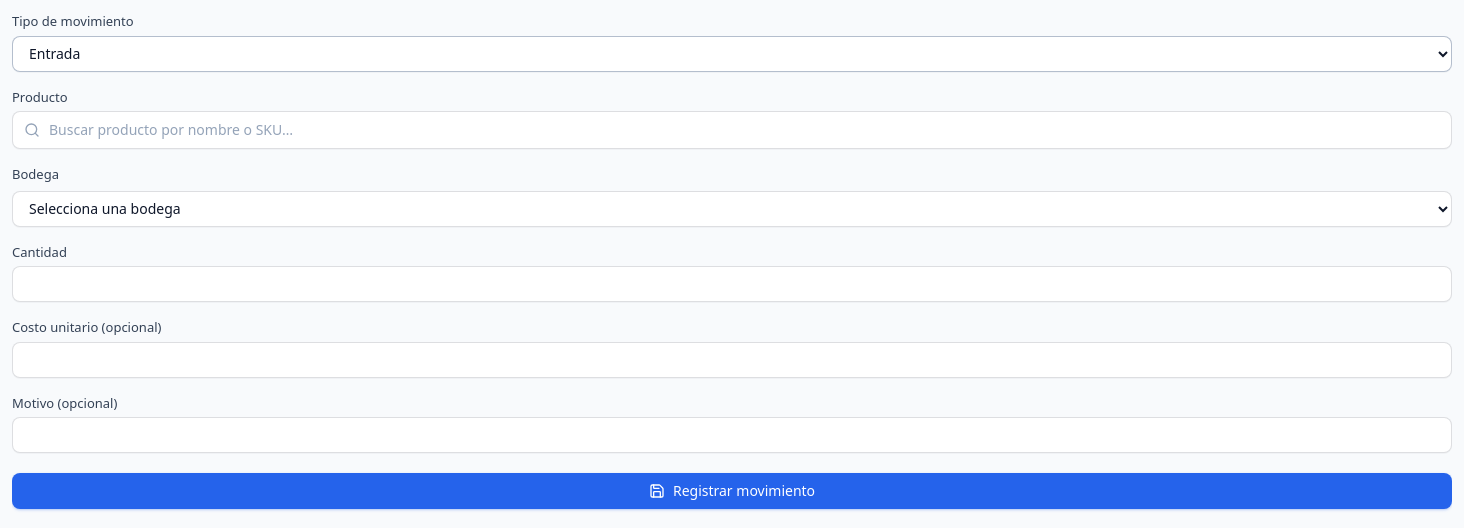
Test: MovementForm › rejects a zero quantity and a missing reason for AJUSTE
The image size is (1464, 528).
Select "Ajuste" in the dropdown labelled "Tipo de movimiento" at [732, 54], box [12,36,1452,72]
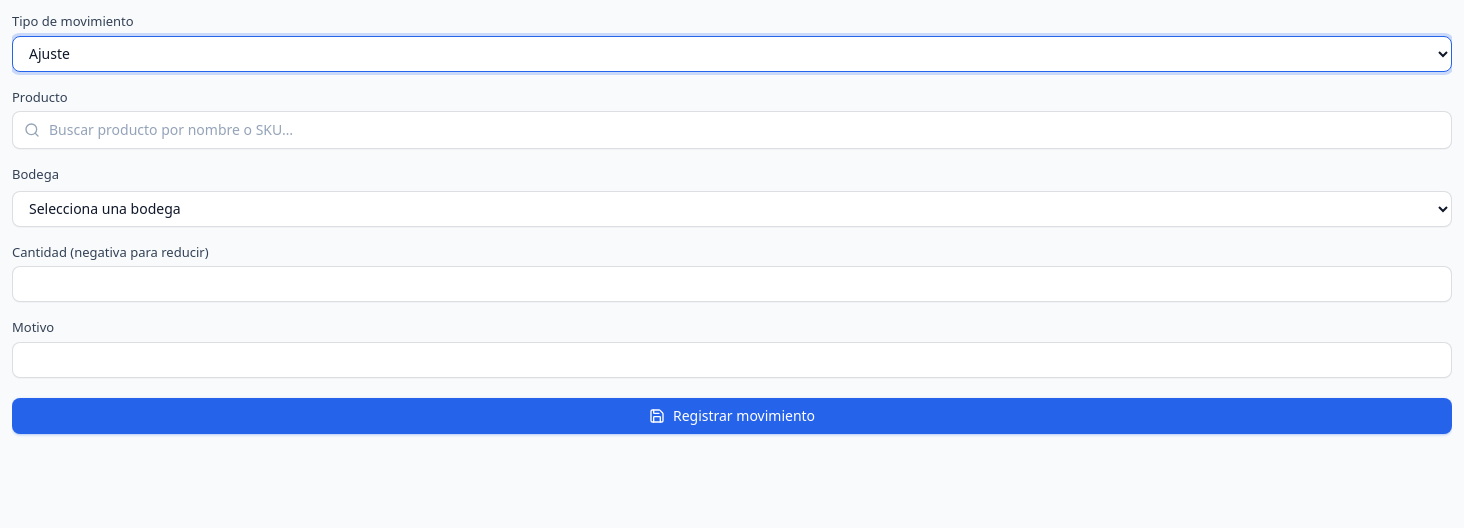
Type "tornillo" into the field with placeholder "Buscar producto por nombre o SKU…" at [732, 130], box [12,111,1452,149]
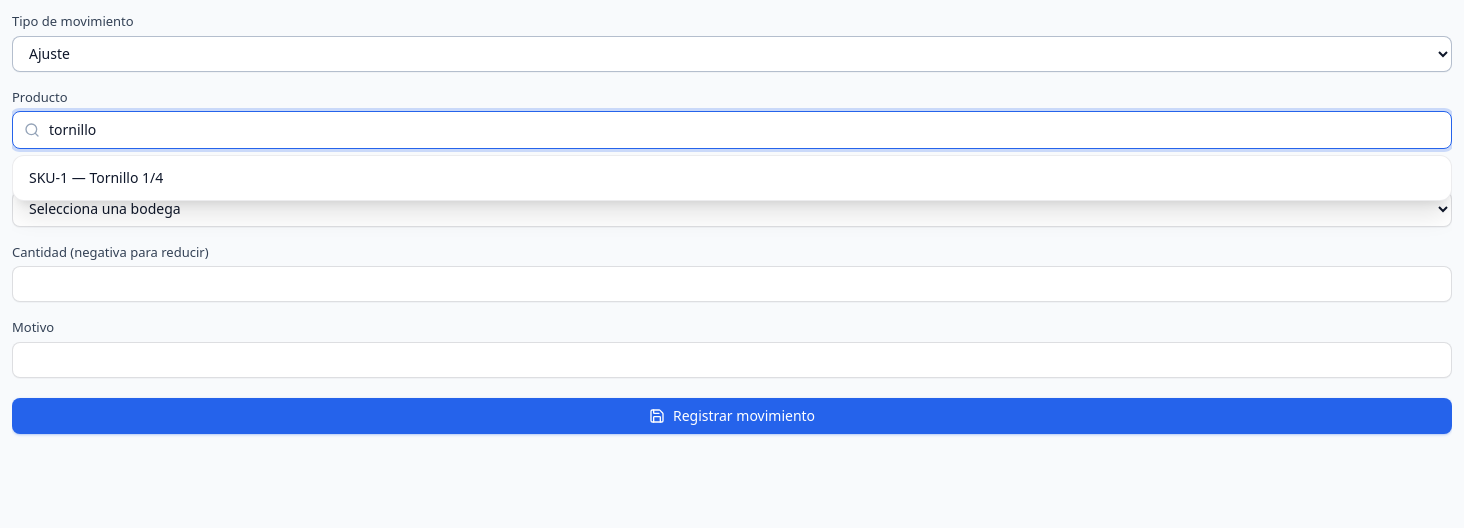
Click the button "SKU-1 — Tornillo 1/4" at [49, 178], box [17,160,1447,196]
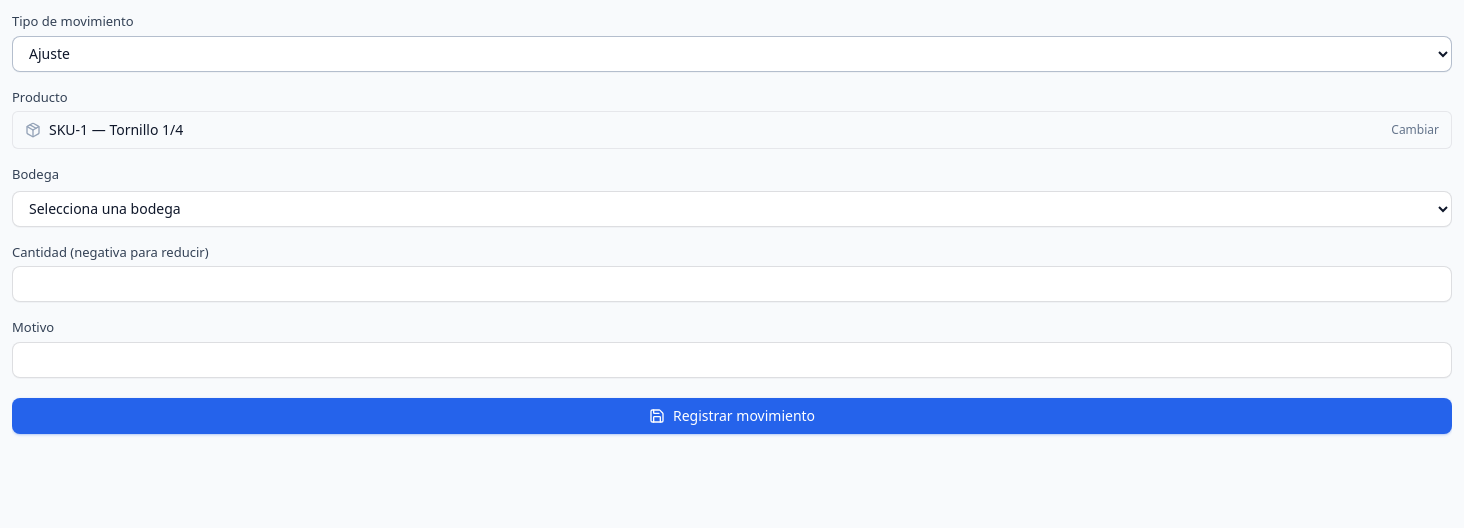
Select "Bodega principal" in the dropdown labelled "Bodega" at [732, 208], box [12,190,1452,226]
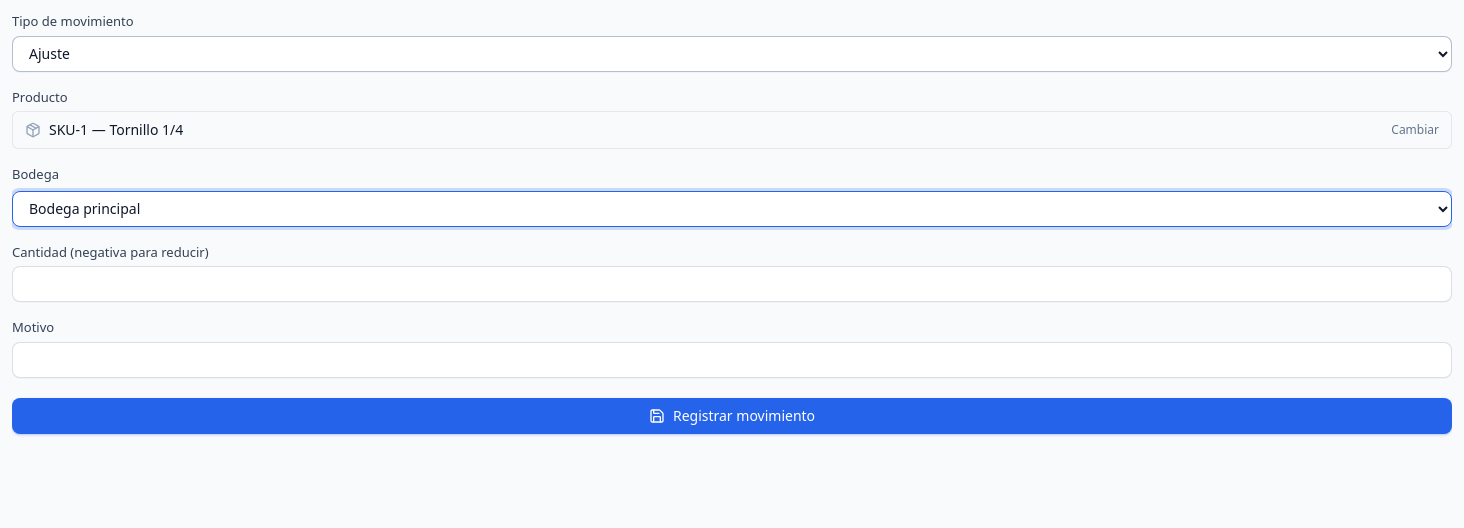
Type "0" into the number field labelled "Cantidad (negativa para reducir)" at [732, 284], box [12,266,1452,302]
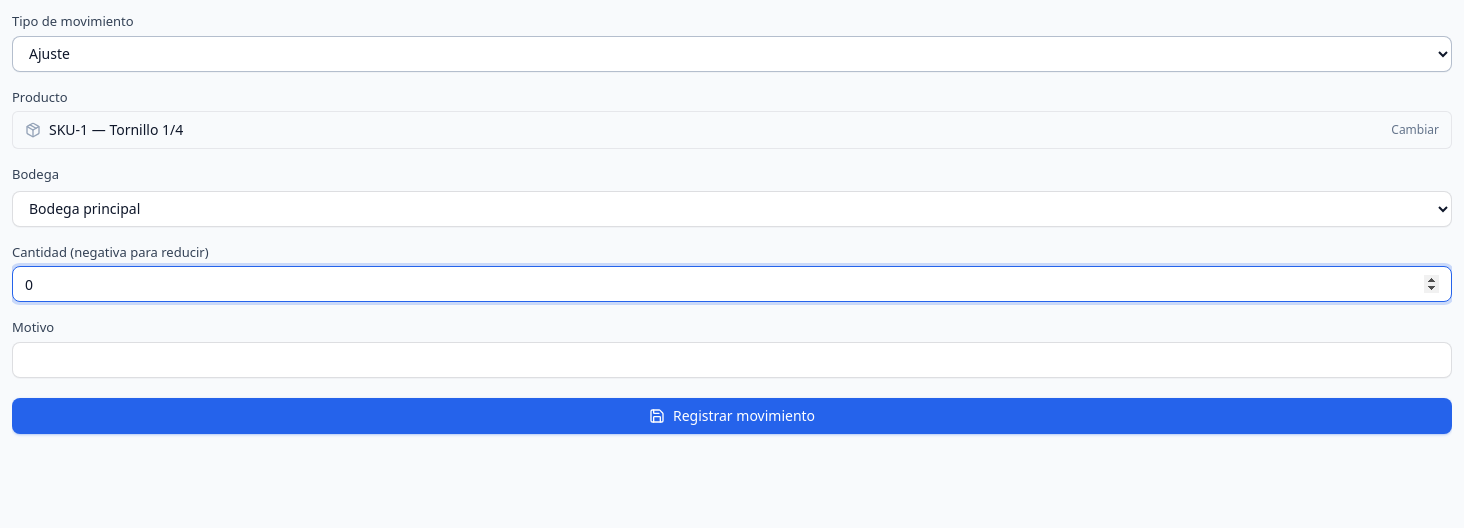
Click the button "Registrar movimiento" at [732, 416], box [12,398,1452,434]
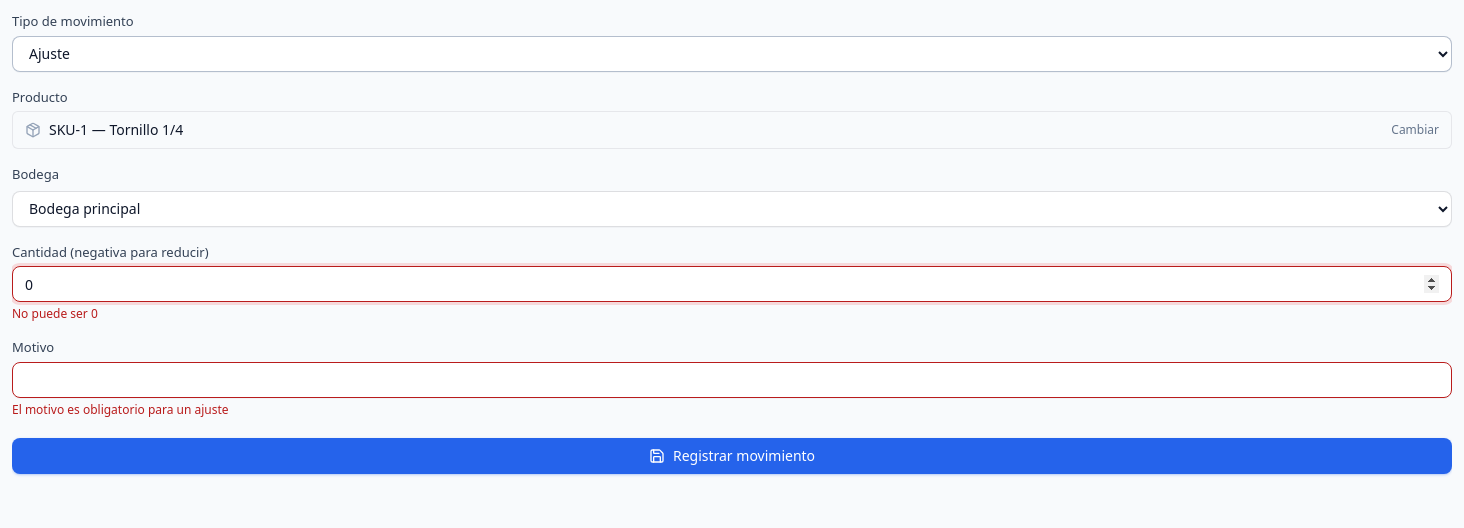
Check: the text "No puede ser 0" is shown, box [12,305,98,322]
Check: the text "El motivo es obligatorio para un ajuste" is shown, box [12,400,229,418]
